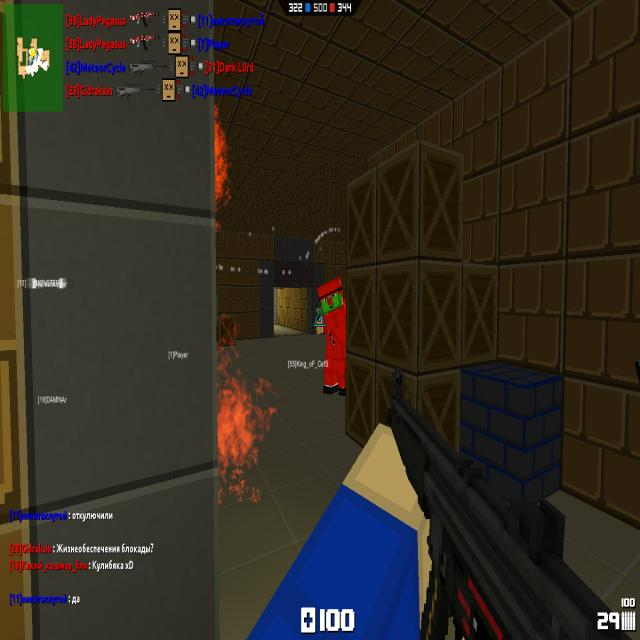enemy: (315, 276, 352, 398)
